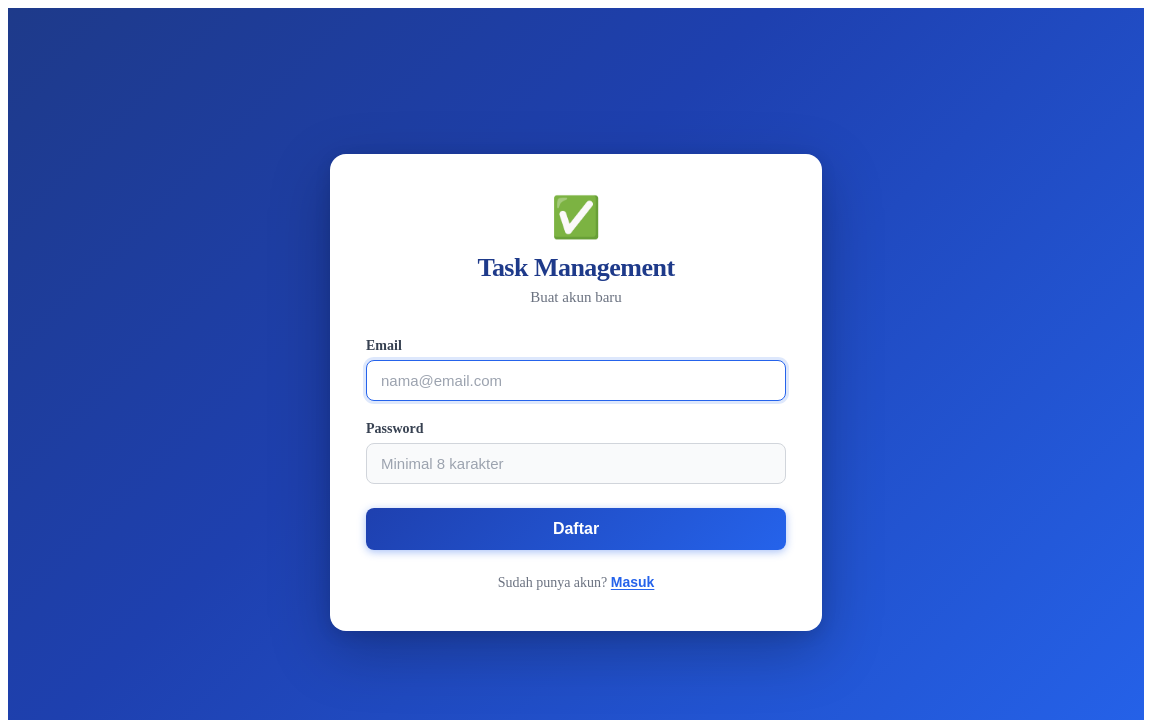
Test: RegisterForm › menampilkan pesan error jika registrasi gagal
Type "user@example.com" into the field labelled "Email" at (576, 380), box [366,360,786,400]
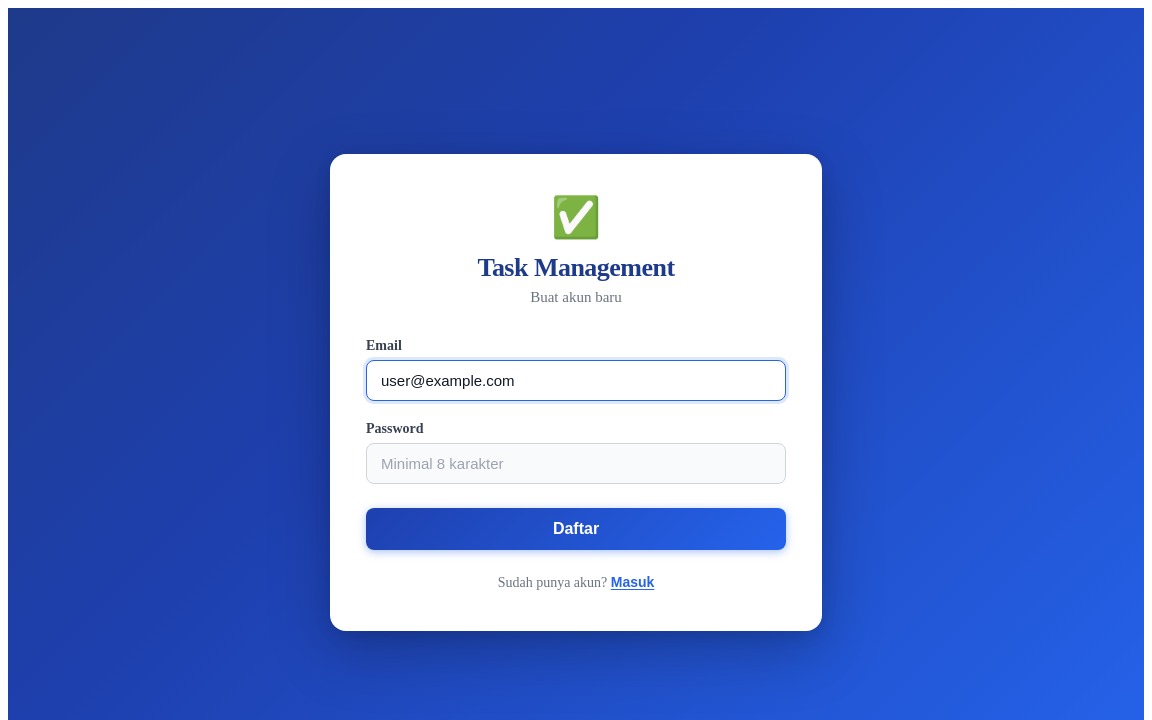
Type "password123" into the password field labelled "Password" at (576, 463), box [366,442,786,484]
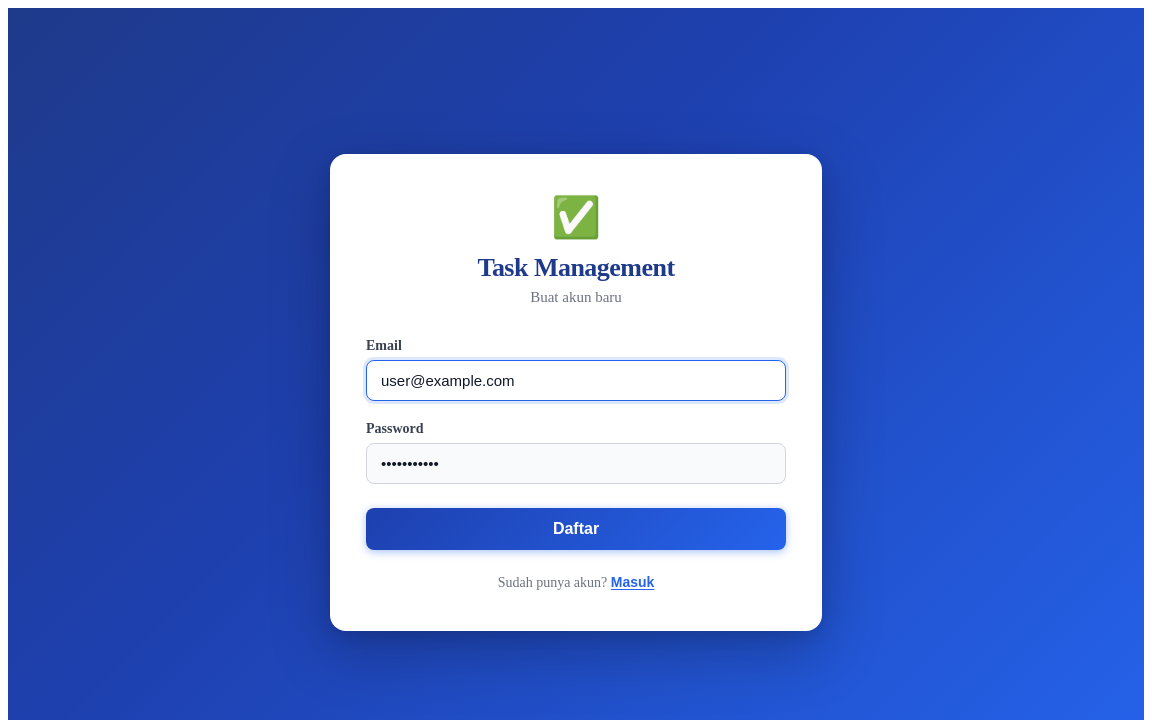
Click the button "Daftar" at (576, 528), box [366,508,786,550]
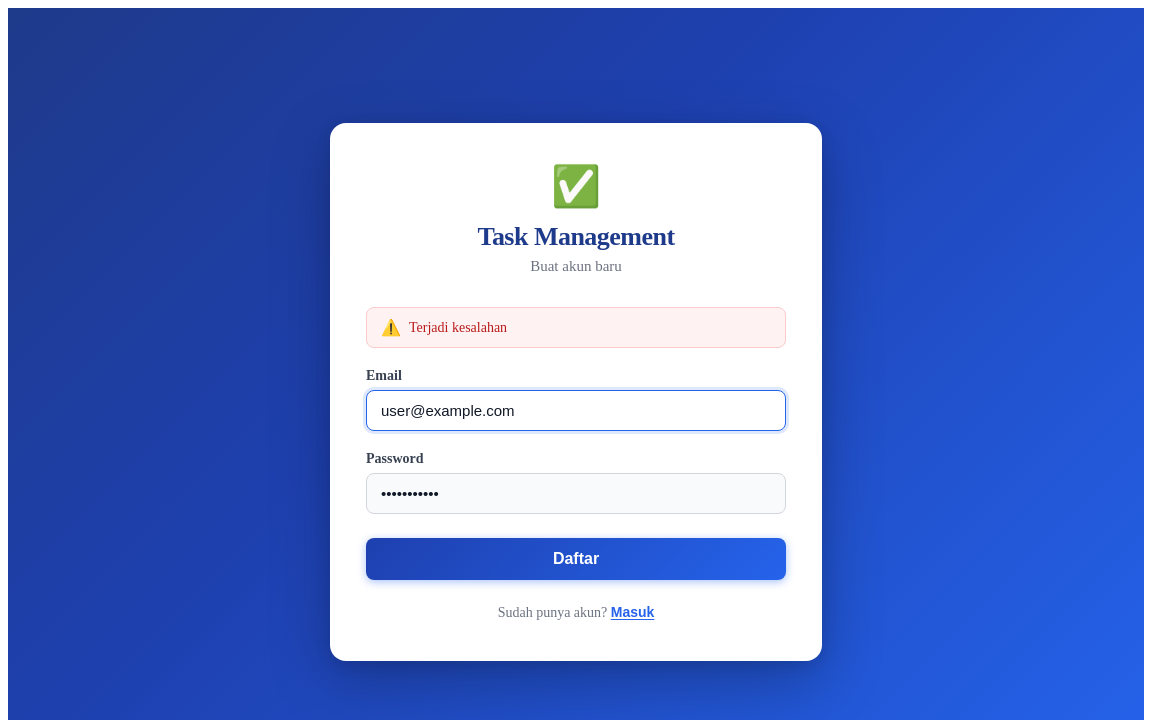
Result: the message shows "Terjadi kesalahan" at [409,320,507,334]
